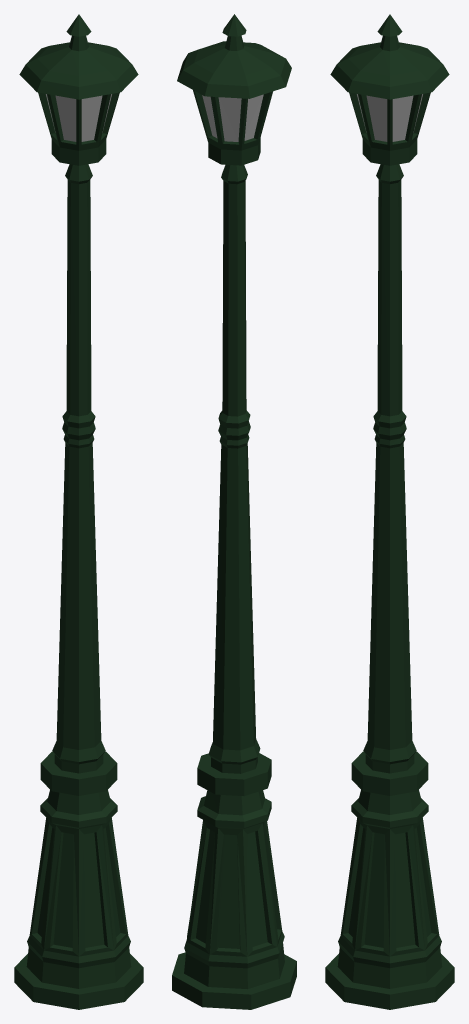
Rendered from Streetlight_Single.glb.
The picture shows the model from 3 angles, left to right: view 1: azimuth 90°, elevation 25°; view 2: azimuth 150°, elevation 25°; view 3: azimuth 270°, elevation 25°; orthographic projection.
Visible parts, largest first — view 1: Streetlight_Single; view 2: Streetlight_Single; view 3: Streetlight_Single.
Part boxes in pixels (x1,y1,x2,y2): Streetlight_Single: [14, 14, 143, 1009]; Streetlight_Single: [172, 14, 296, 1009]; Streetlight_Single: [325, 14, 454, 1009].
Bounding box in the file's own units: 0.1316 × 1.09 × 0.1316.
